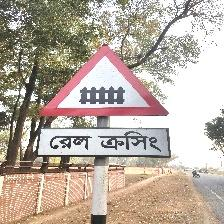Rail-crossing: (36, 44, 173, 156)
